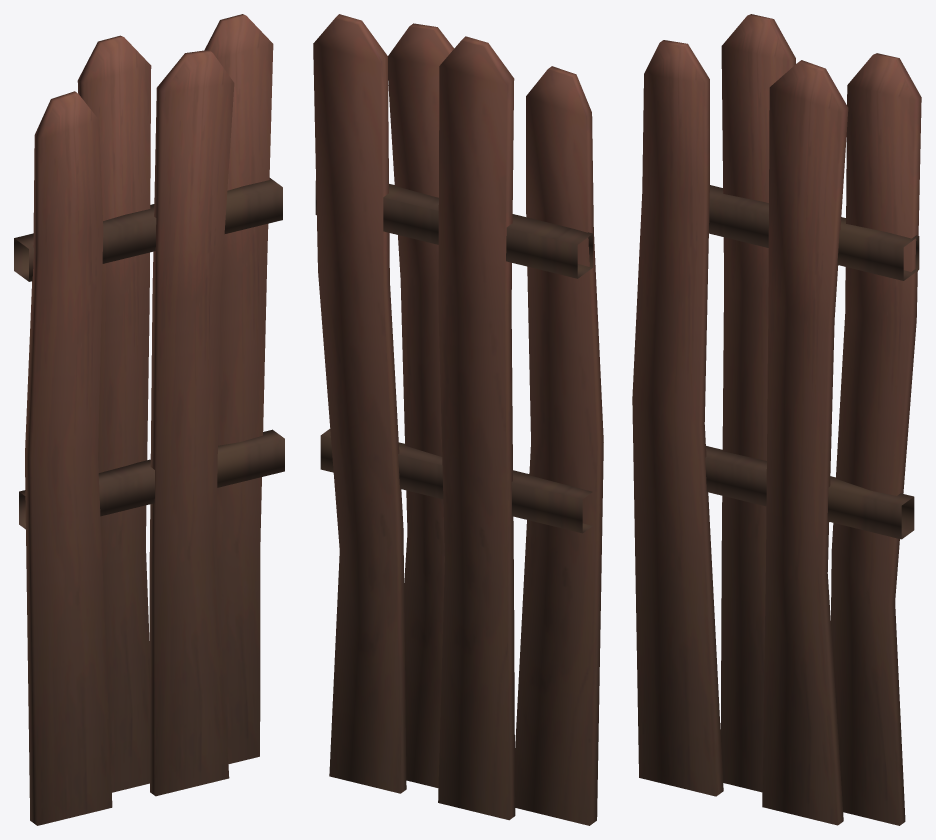
File: OBJ_Fence.glb
The picture shows the model from 3 angles, left to right: view 1: azimuth 30°, elevation 25°; view 2: azimuth 150°, elevation 25°; view 3: azimuth 330°, elevation 25°; orthographic projection. The views are drawn at different scales.
Visible parts, largest first — view 1: OBJ_Fence; view 2: OBJ_Fence; view 3: OBJ_Fence.
Part boxes in pixels (box(x1,y1,x2,y2)): OBJ_Fence: box(14, 14, 284, 825); OBJ_Fence: box(313, 14, 603, 825); OBJ_Fence: box(632, 14, 921, 825).
Size of the model in its own units: 11.98 by 33.09 by 2.08.
1 material, 1 textured.
